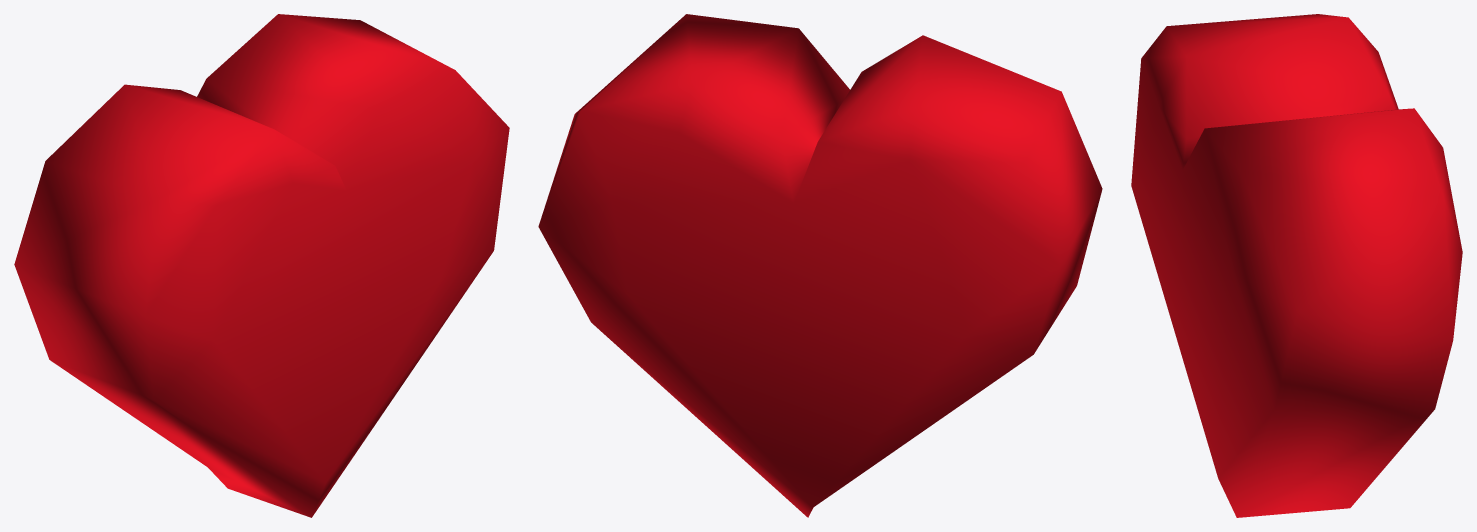
Rendered from regen.fbx.
The picture shows the model from 3 angles, left to right: view 1: azimuth 30°, elevation 25°; view 2: azimuth 150°, elevation 25°; view 3: azimuth 270°, elevation 25°; orthographic projection. The views are drawn at different scales.
Visible parts, largest first — view 1: Cylinder.002; view 2: Cylinder.002; view 3: Cylinder.002.
Boxes of the visible parts, x1=… form: Cylinder.002: x1=14, y1=14, x2=509, y2=517; Cylinder.002: x1=538, y1=14, x2=1102, y2=517; Cylinder.002: x1=1131, y1=14, x2=1462, y2=517.
Size of the model in its own units: 642 by 543 by 370.
